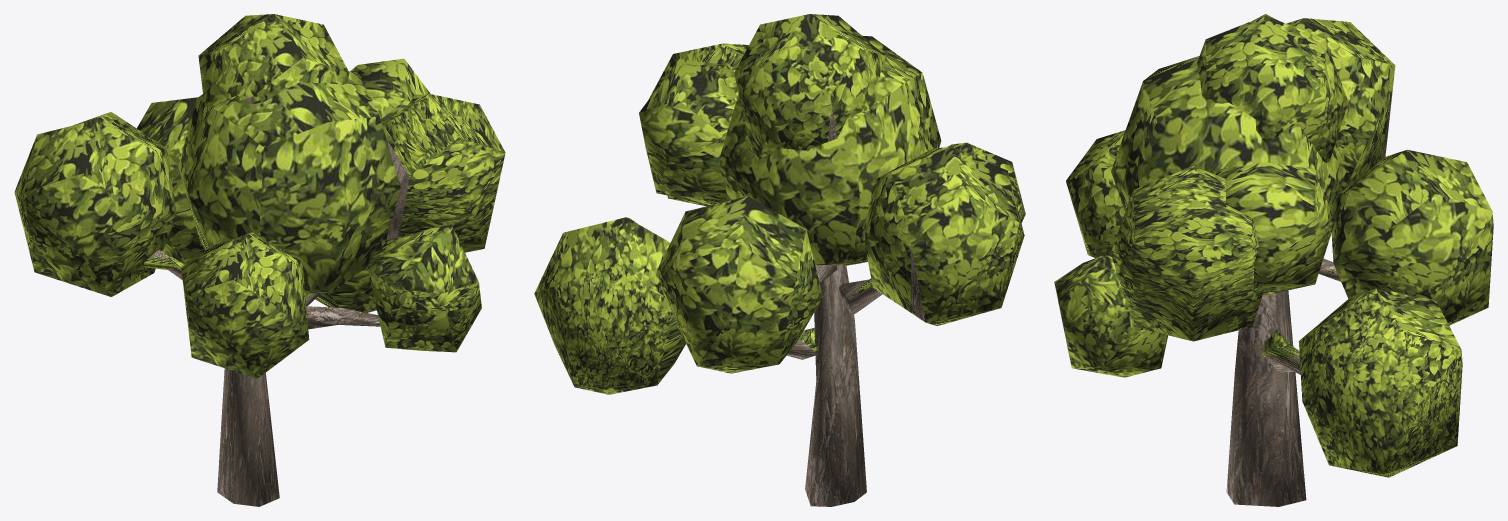
Rendered from TREE2.fbx.
3 renders of one model, left to right at view 1: azimuth 30°, elevation 25°; view 2: azimuth 150°, elevation 25°; view 3: azimuth 270°, elevation 25°, orthographic. The views are drawn at different scales.
Visible parts, largest first — view 1: Cube; view 2: Cube; view 3: Cube.
Part boxes in pixels (bbox=[...]): Cube: bbox=[14, 14, 505, 506]; Cube: bbox=[534, 14, 1025, 506]; Cube: bbox=[1054, 14, 1493, 506].
Bounding box in the file's own units: 1002 × 1048 × 843.
1 material, 1 textured.
